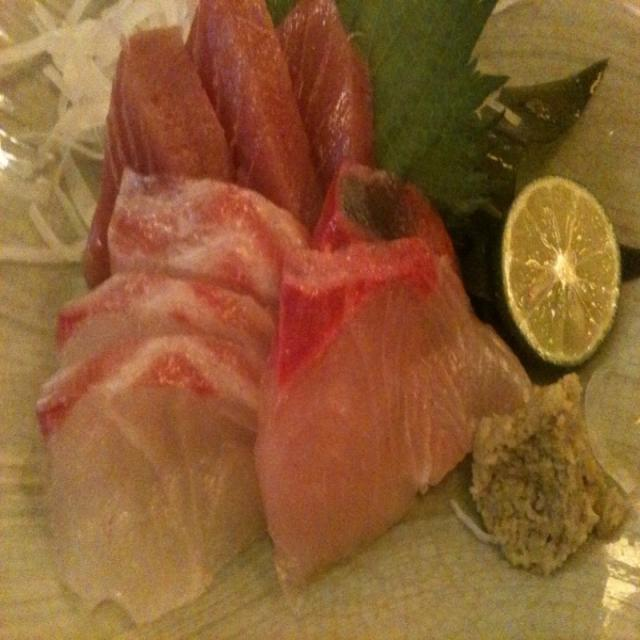刺身生食: (1, 3, 629, 640)
